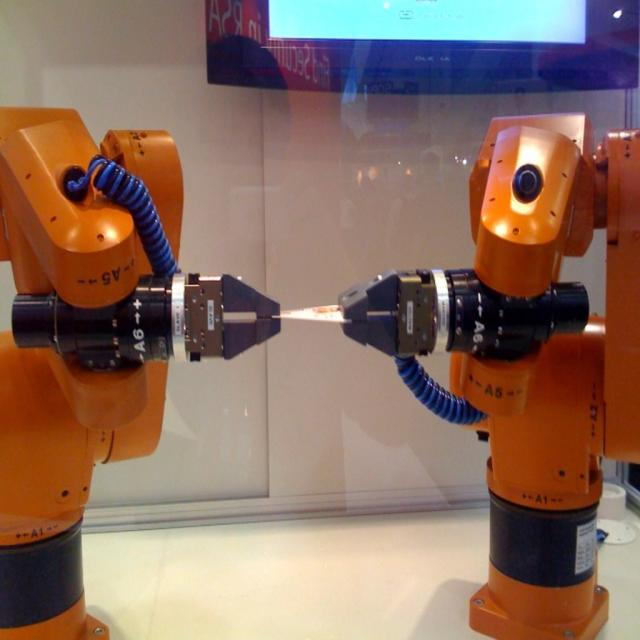Toy: (337, 111, 639, 640), (0, 106, 283, 640)
